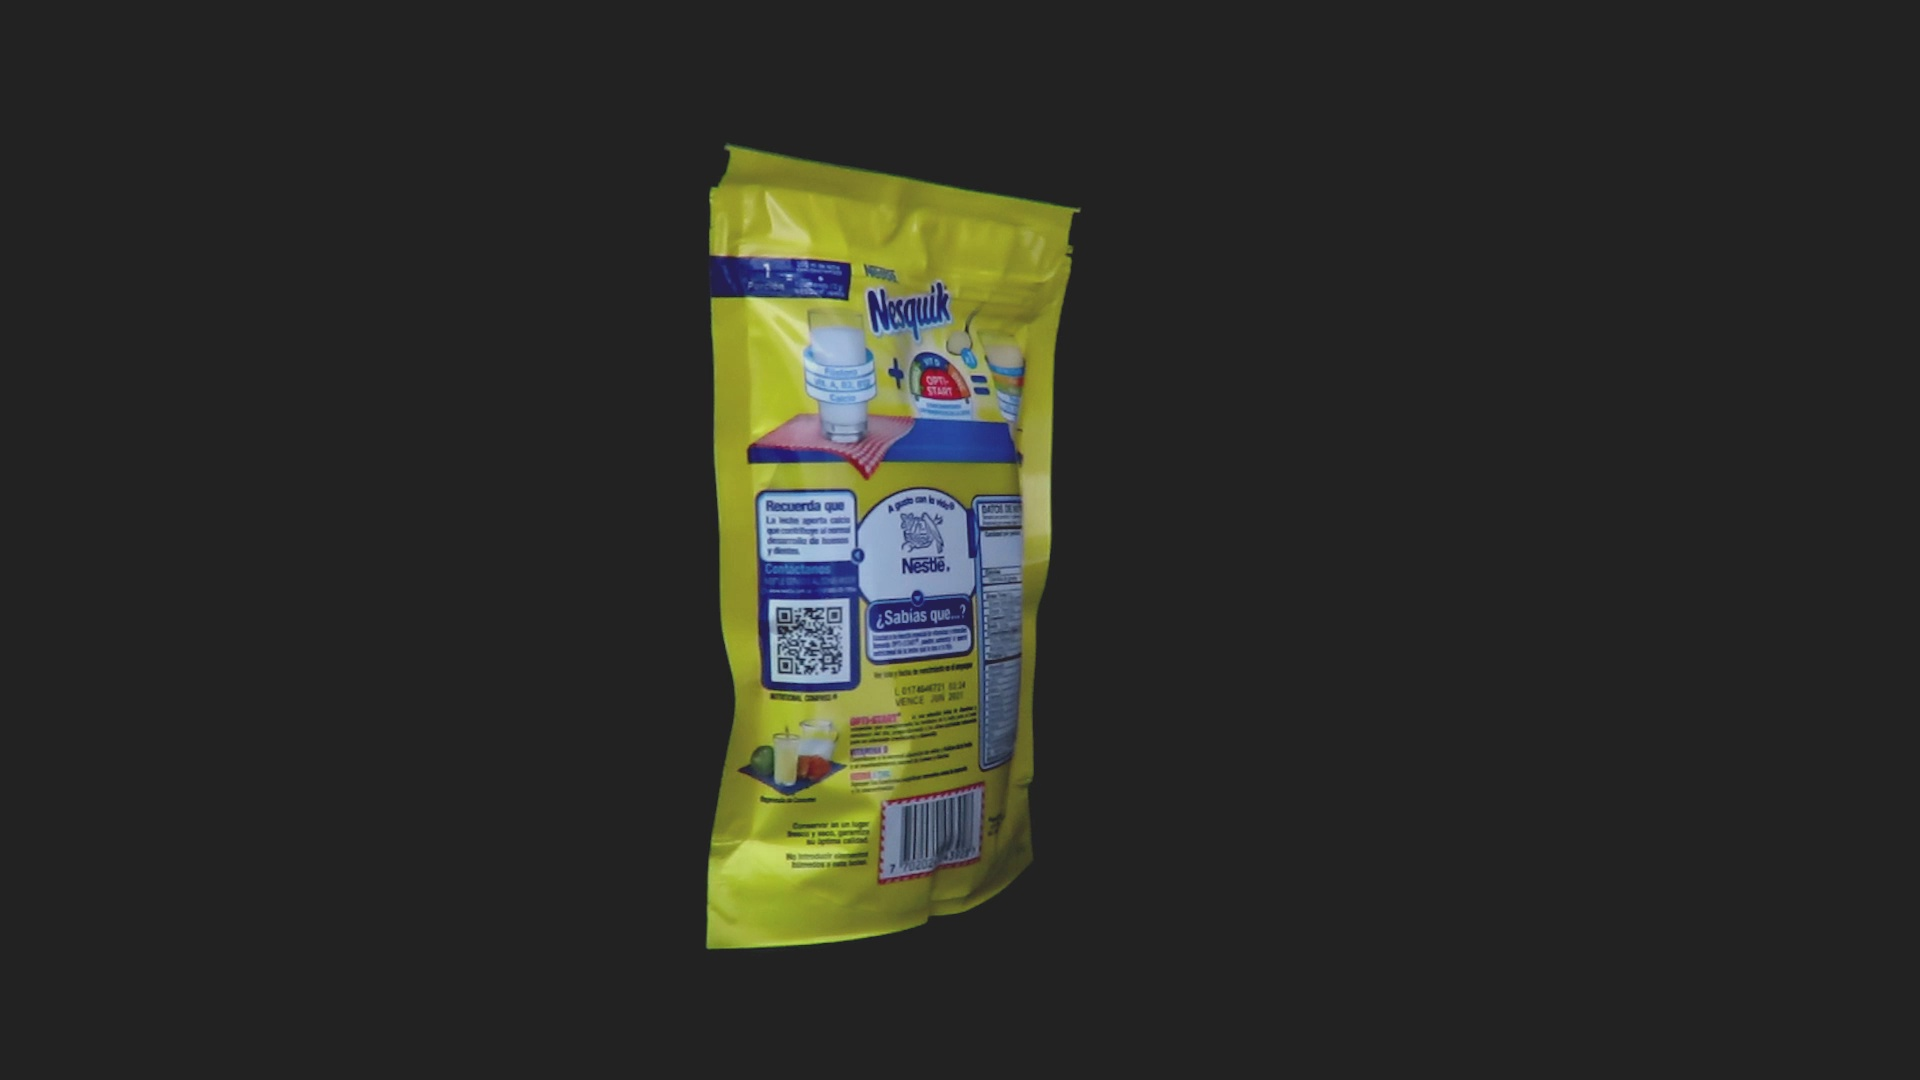COL0170306DYP20000: (702, 138, 1087, 955)
